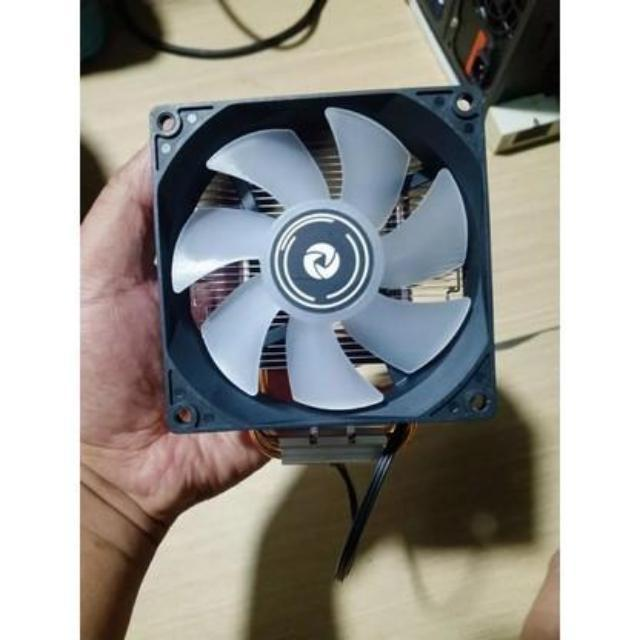CPU_Fan: (138, 87, 494, 467)
